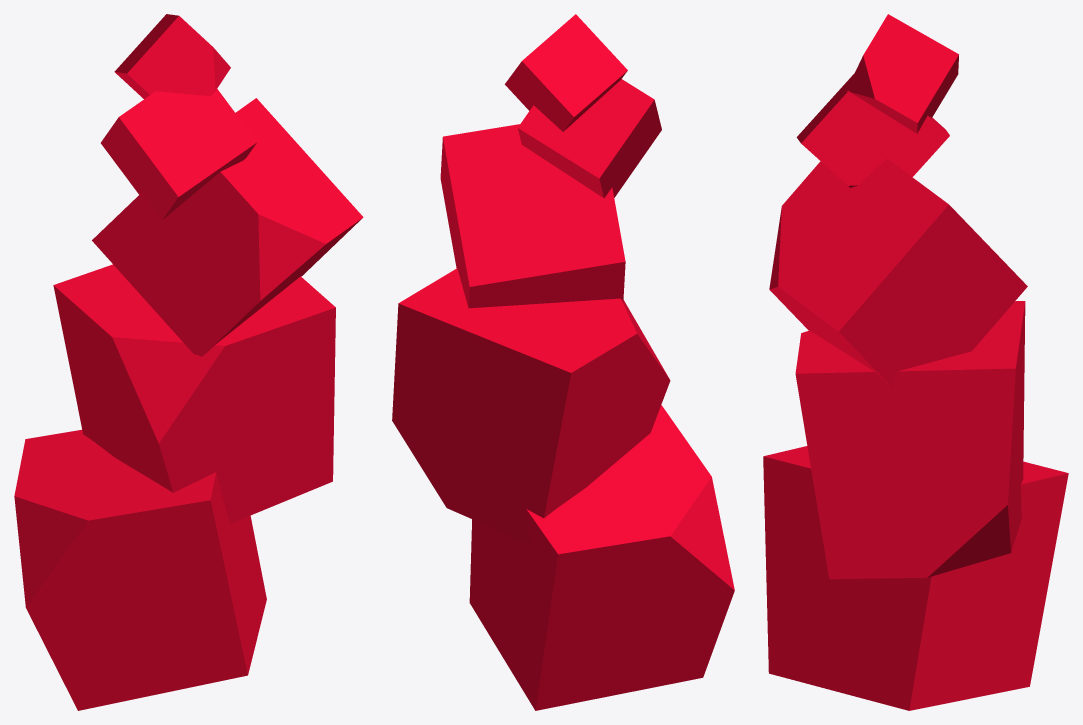
File: RockPile012.fbx
3 renders of one model, left to right at view 1: azimuth 30°, elevation 25°; view 2: azimuth 150°, elevation 25°; view 3: azimuth 270°, elevation 25°, orthographic. The views are drawn at different scales.
Visible parts, largest first — view 1: RockPile012; view 2: RockPile012; view 3: RockPile012.
Part boxes in pixels (left/top/right/bottom): RockPile012: left=14, top=14, right=363, bottom=710; RockPile012: left=392, top=14, right=734, bottom=710; RockPile012: left=763, top=14, right=1068, bottom=710.
Size of the model in its own units: 81.31 by 64.25 by 160.
